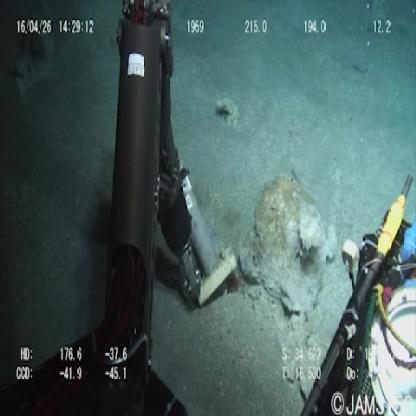Rov: (88, 2, 202, 384), (300, 171, 415, 416), (175, 146, 240, 312)
